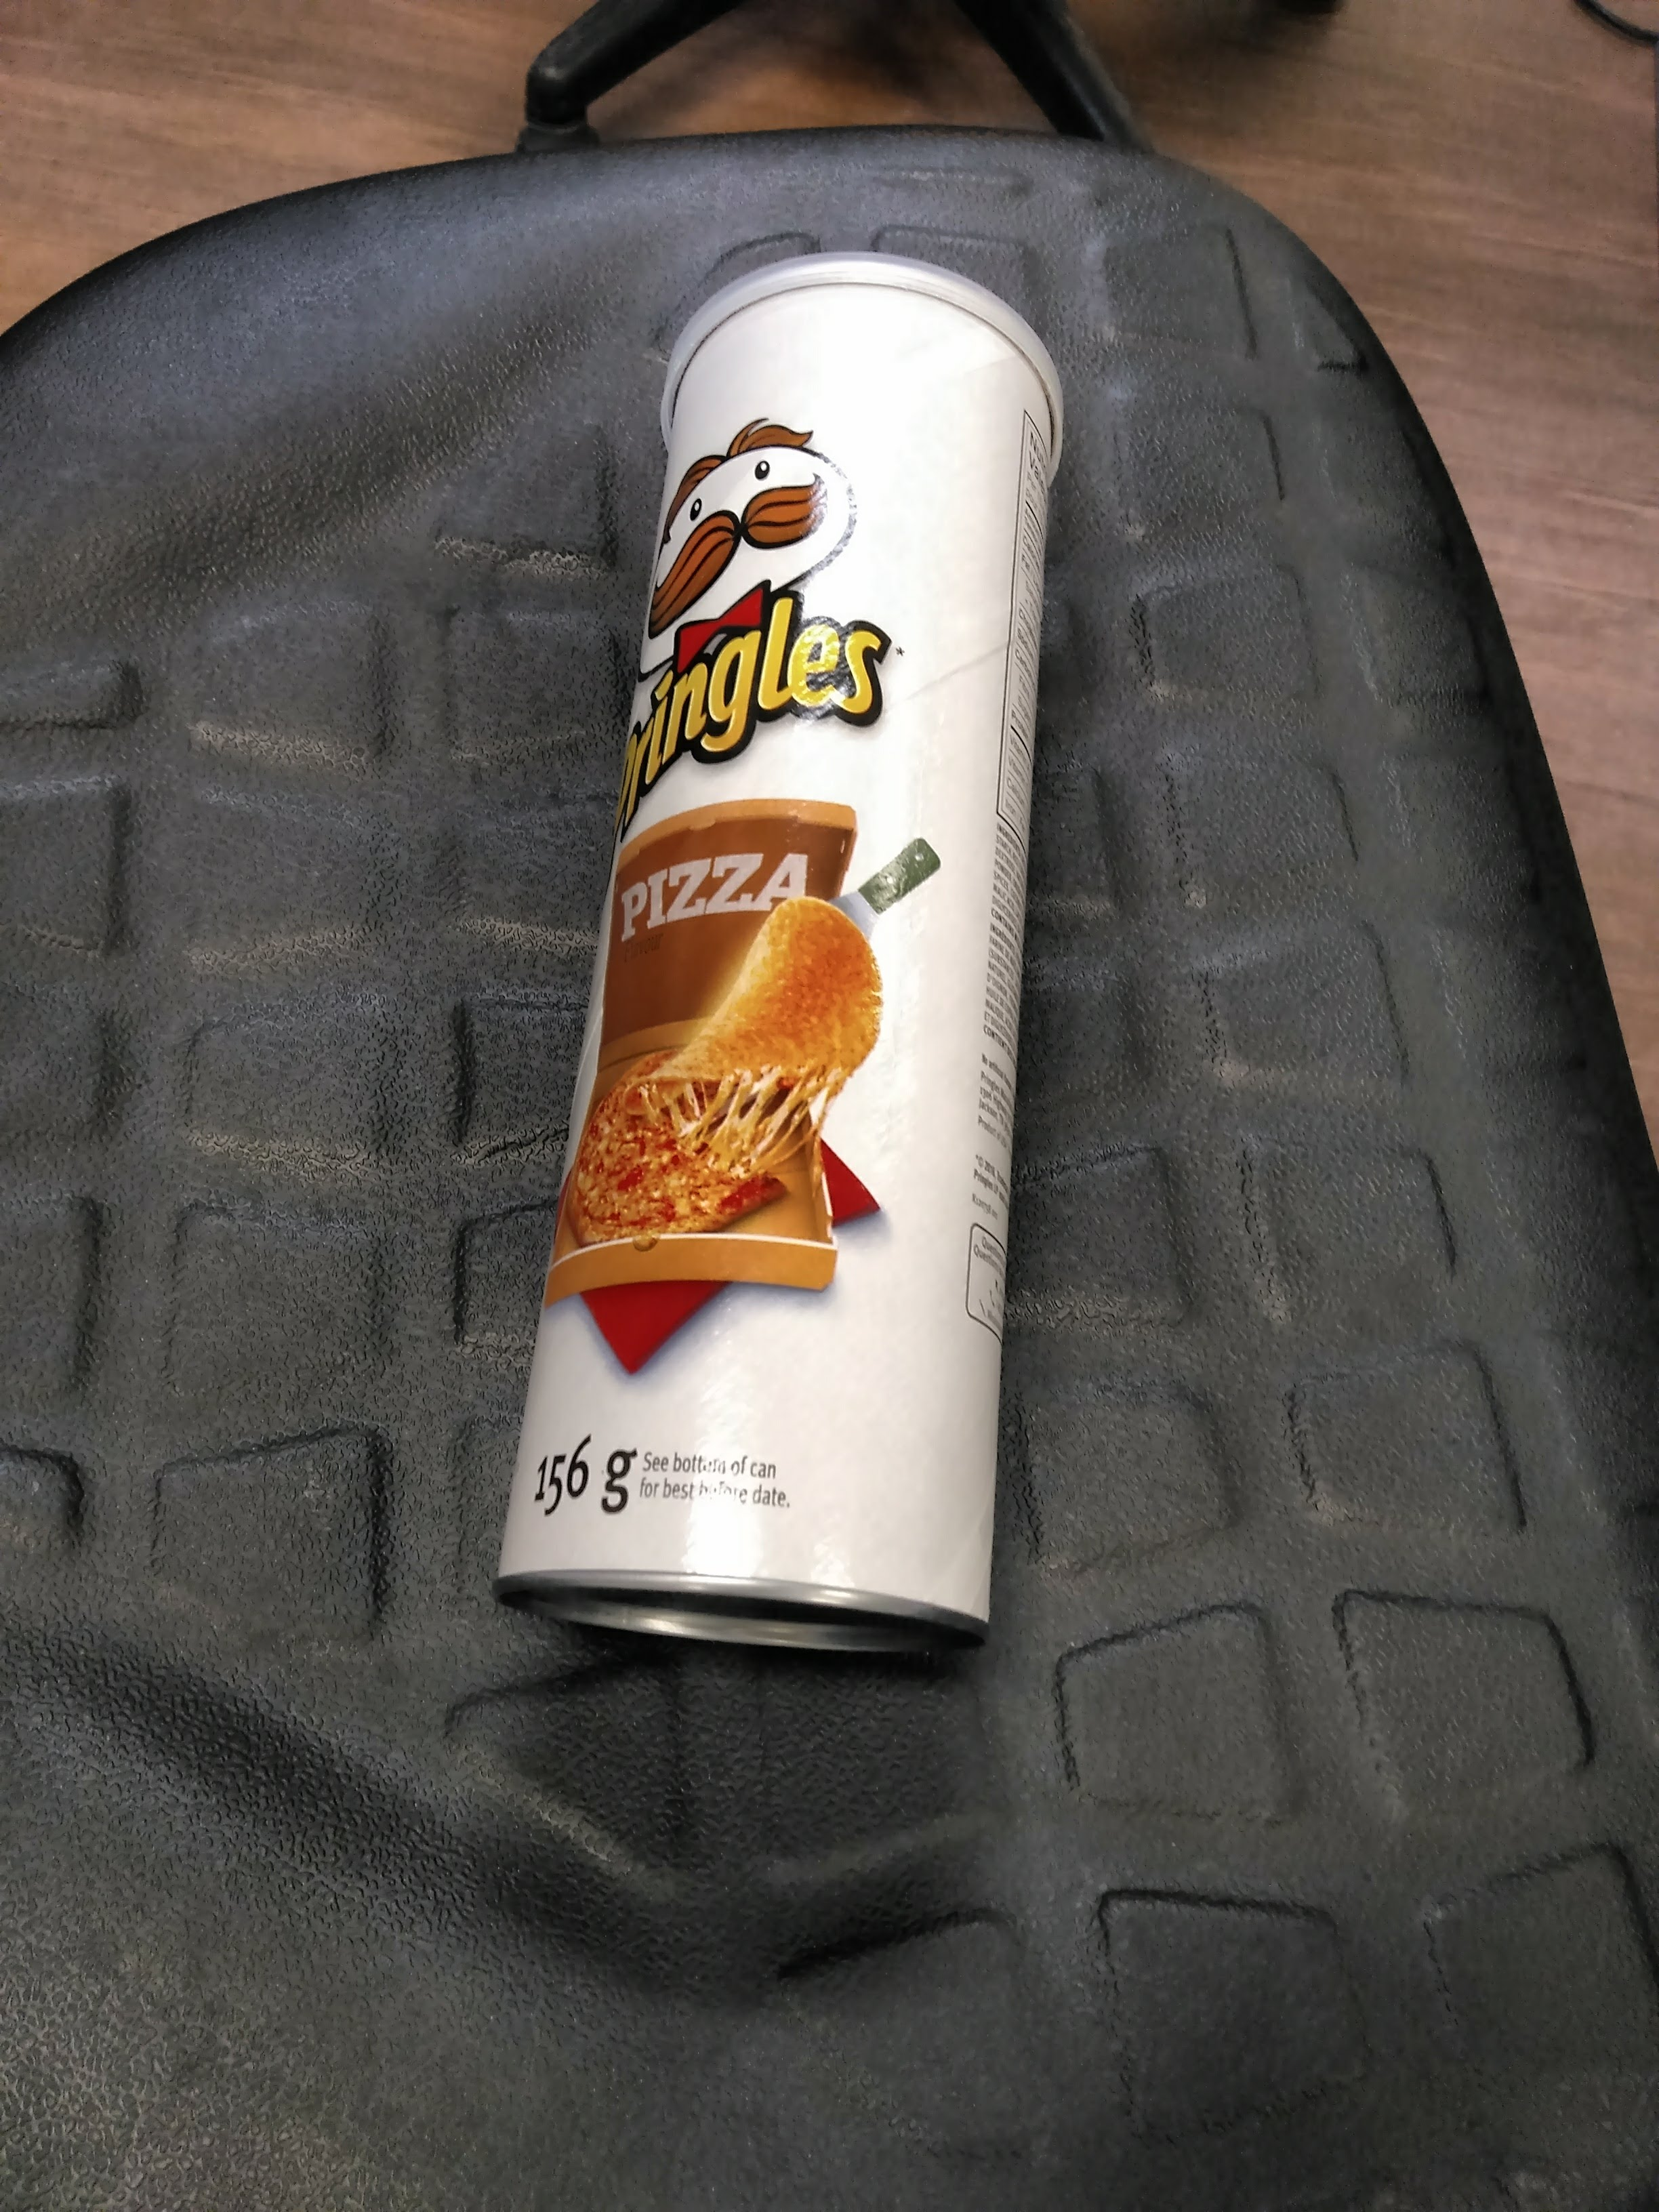pringles: (509, 232, 1082, 1651)
